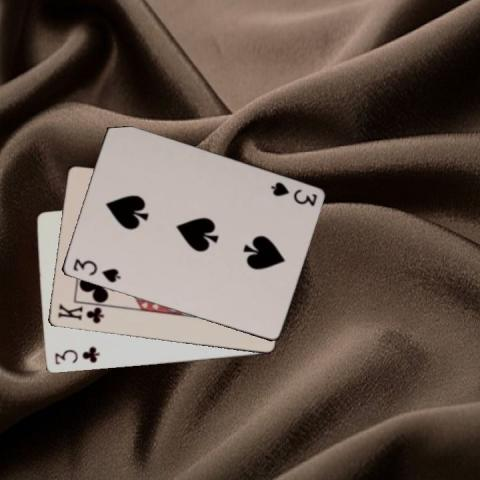3c: (51, 344, 101, 367)
3s: (70, 255, 122, 285), (267, 179, 318, 208)
Kc: (54, 301, 104, 326)
